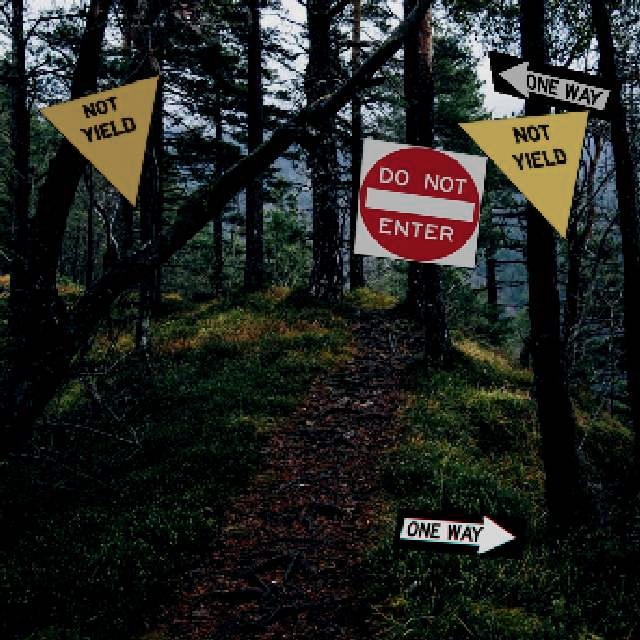DO_NOT_ENTER: (351, 135, 487, 268)
NOT_YIELD: (454, 108, 589, 240), (35, 72, 159, 208)
ONE_WAY_ left: (486, 48, 622, 120)
ONE_WAY_ right: (389, 506, 525, 559)
